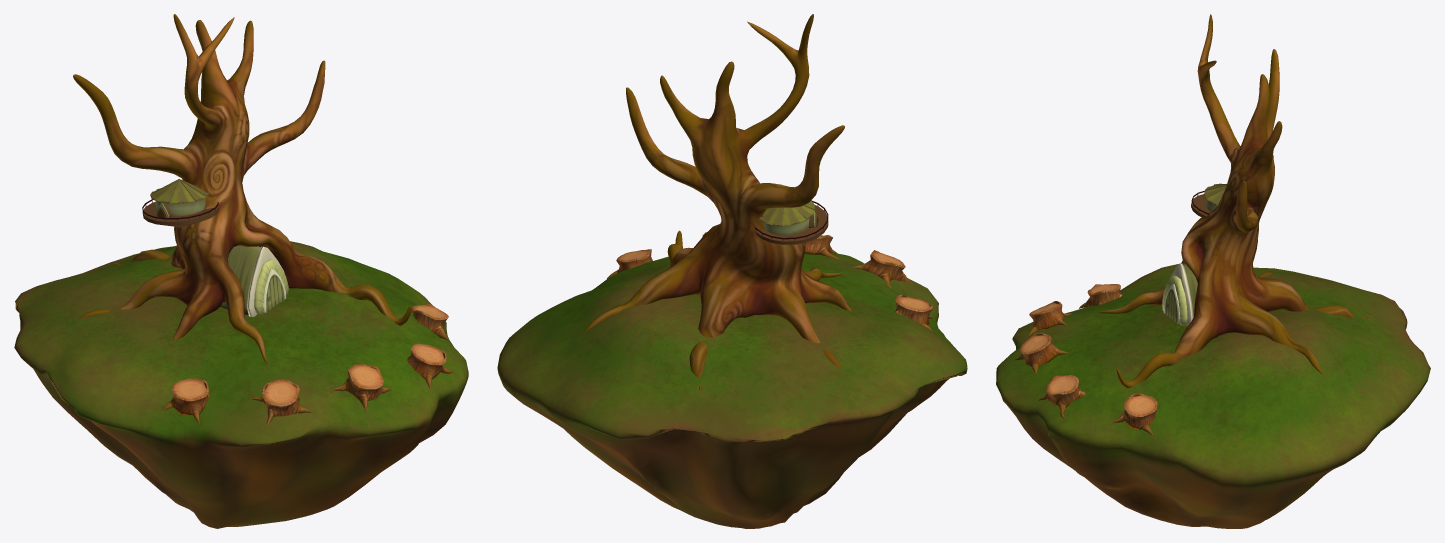
Rendered from EilandFinalContext3.fbx.
3 views of the same model, side by side, from view 1: azimuth 30°, elevation 25°; view 2: azimuth 150°, elevation 25°; view 3: azimuth 270°, elevation 25° (orthographic). The views are drawn at different scales.
Visible parts, largest first — view 1: PM3D_eiland, pasted__boom1, Huiske_pCube3, balkon_leuning1, pasted__boomstronk3, pasted__boomstronk2, pasted__boomstronk4, pasted__boomstronk5, pasted__boomstronk6; view 2: PM3D_eiland, pasted__boom1, balkon_leuning1, pasted__boomstronk3, pasted__boomstronk4, pasted__boomstronk6; view 3: PM3D_eiland, pasted__boom1, Huiske_pCube3, pasted__boomstronk6, pasted__boomstronk2, pasted__boomstronk5, pasted__boomstronk3, balkon_leuning1, pasted__boomstronk4.
Boxes of the visible parts, x1,y1,x2,y2 form: PM3D_eiland: (14,241,468,528); pasted__boom1: (73,14,411,363); Huiske_pCube3: (220,245,288,317); balkon_leuning1: (142,179,218,227); pasted__boomstronk3: (249,379,311,424); pasted__boomstronk2: (330,364,391,411); pasted__boomstronk4: (162,378,209,424); pasted__boomstronk5: (407,343,452,388); pasted__boomstronk6: (412,304,449,340); PM3D_eiland: (497,253,967,528); pasted__boom1: (584,14,851,390); balkon_leuning1: (755,200,828,244); pasted__boomstronk3: (852,250,912,288); pasted__boomstronk4: (895,294,933,331); pasted__boomstronk6: (607,249,652,278); PM3D_eiland: (996,263,1430,528); pasted__boom1: (1098,14,1369,387); Huiske_pCube3: (1162,263,1197,325); pasted__boomstronk6: (1112,393,1157,435); pasted__boomstronk2: (1014,333,1067,373); pasted__boomstronk5: (1038,375,1085,418); pasted__boomstronk3: (1028,301,1071,335); balkon_leuning1: (1191,183,1226,218); pasted__boomstronk4: (1079,284,1122,308).
Size of the model in its own units: 35.88 by 44.13 by 36.53.
